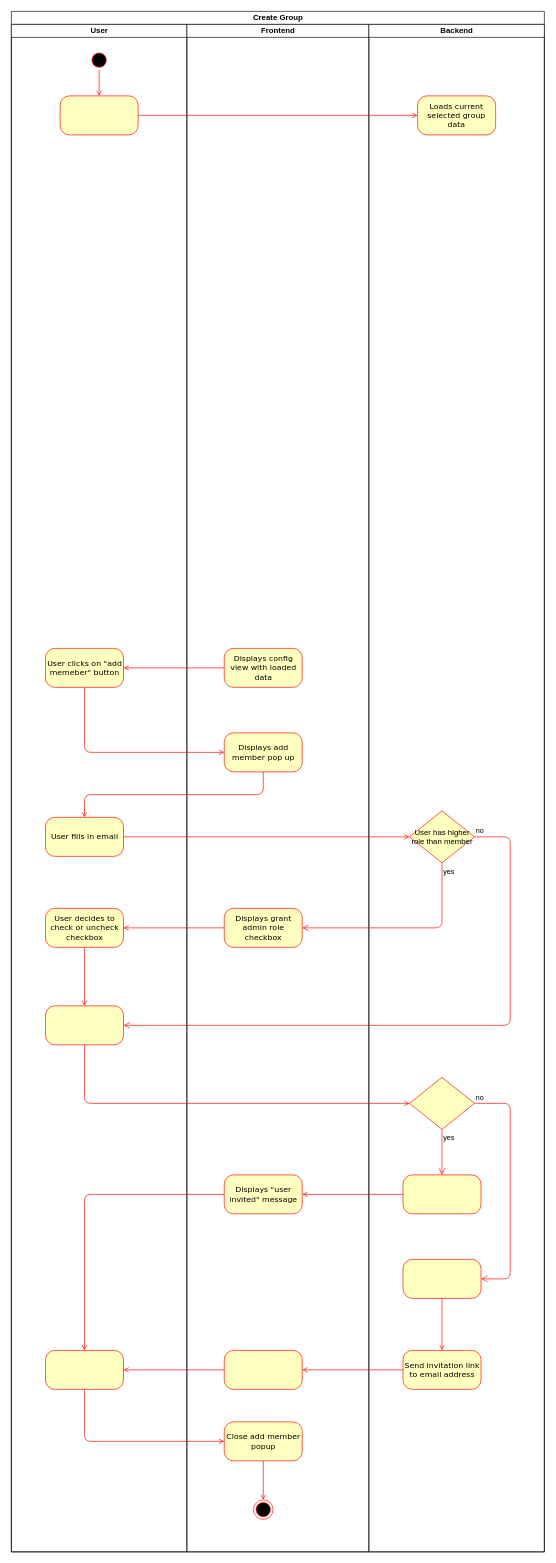
This 556x1563 diagram has some shape labels left out. The shapes that lost their labels are listed below. From the top down, each one's centre as x and y in pixels, then its label:
pixel 98 115: User clicks on "create group" button
pixel 84 1025: User clicks on "invite button"
pixel 441 1103: User with given email exist
pixel 441 1194: Create invitation for selected user
pixel 441 1278: Generate invitation link
pixel 84 1369: User clicks on "ok button"
pixel 263 1369: Displays "send invitation email" message
